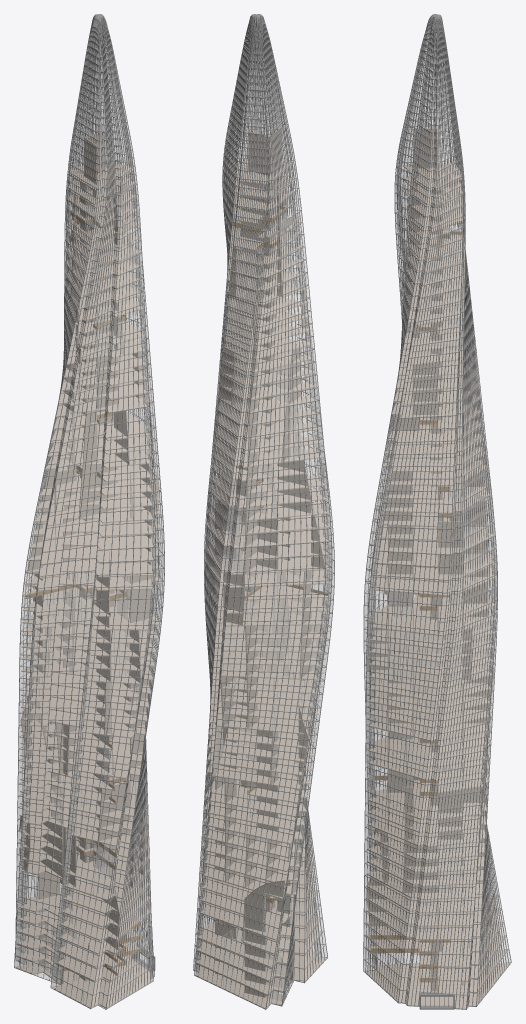
The picture shows the model from 3 angles, left to right: view 1: azimuth 30°, elevation 25°; view 2: azimuth 150°, elevation 25°; view 3: azimuth 270°, elevation 25°; orthographic projection.
Parts seen in each view (by area): view 1: building, Plane.170, Plane, Plane.006, 2_Clean plaster_0, 1_Clean plaster_0, Plane.003, Plane.005, Plane.002, Plane.004; view 2: building, Plane.170, Plane, 2_Clean plaster_0, Plane.006, 1_Clean plaster_0, Plane.003, Plane.005, Plane.002, Plane.004; view 3: building, Plane.170, Plane, Plane.006, 2_Clean plaster_0, 1_Clean plaster_0, Plane.003, Plane.005, Plane.004, Plane.002.
Boxes of the visible parts, x1,y1,x2,y2 form: building: (14,22,164,1008); Plane.170: (14,14,164,1009); Plane: (16,163,162,981); Plane.006: (16,178,163,1008); 2_Clean plaster_0: (19,132,158,983); 1_Clean plaster_0: (71,180,125,986); Plane.003: (18,180,157,1001); Plane.005: (17,178,158,1002); Plane.002: (25,205,141,975); Plane.004: (70,208,126,967); building: (193,54,334,1008); Plane.170: (193,14,334,1009); Plane: (194,161,332,994); 2_Clean plaster_0: (206,128,325,997); Plane.006: (195,174,332,1008); 1_Clean plaster_0: (231,180,285,933); Plane.003: (213,183,320,1000); Plane.005: (207,176,323,1000); Plane.002: (213,202,328,964); Plane.004: (232,206,286,927); building: (364,26,510,1008); Plane.170: (363,14,511,1009); Plane: (365,163,507,995); Plane.006: (365,177,510,1008); 2_Clean plaster_0: (366,128,494,998); 1_Clean plaster_0: (420,186,449,992); Plane.003: (374,217,496,987); Plane.005: (373,170,496,988); Plane.004: (419,226,449,982); Plane.002: (370,204,491,992).
Size of what is drawn, in the model's own units: 0.4296 by 3.16 by 0.4388.
5 materials, 1 textured.
